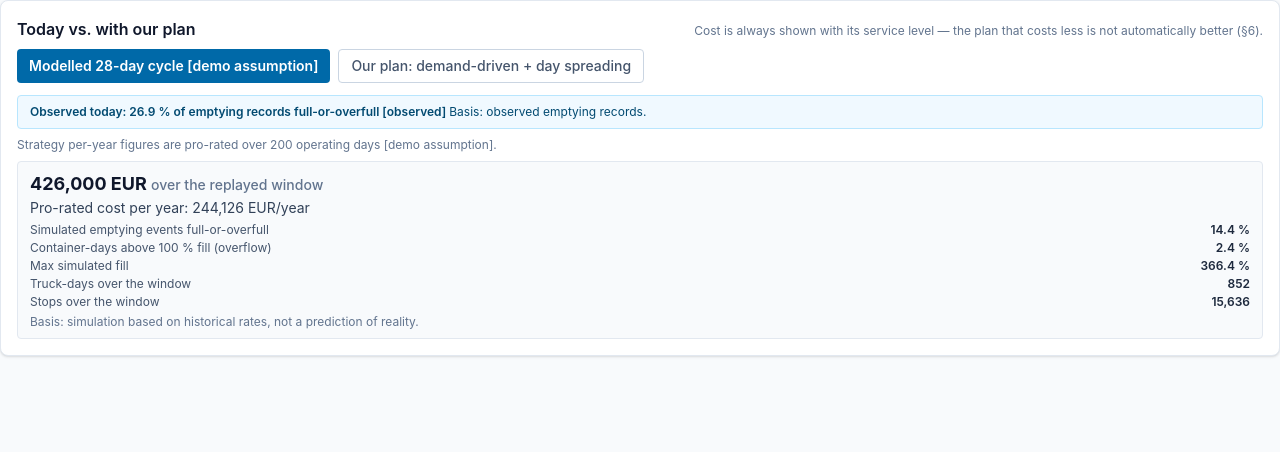
Test: TodayPlanToggle — cost + service together (§6) › words cost-more-with-zero-service-gain as NO GAIN, never as an improvement (review #4)
Click the button with test id "toggle-plan". click: [491, 66]
box: [338,49,644,83]
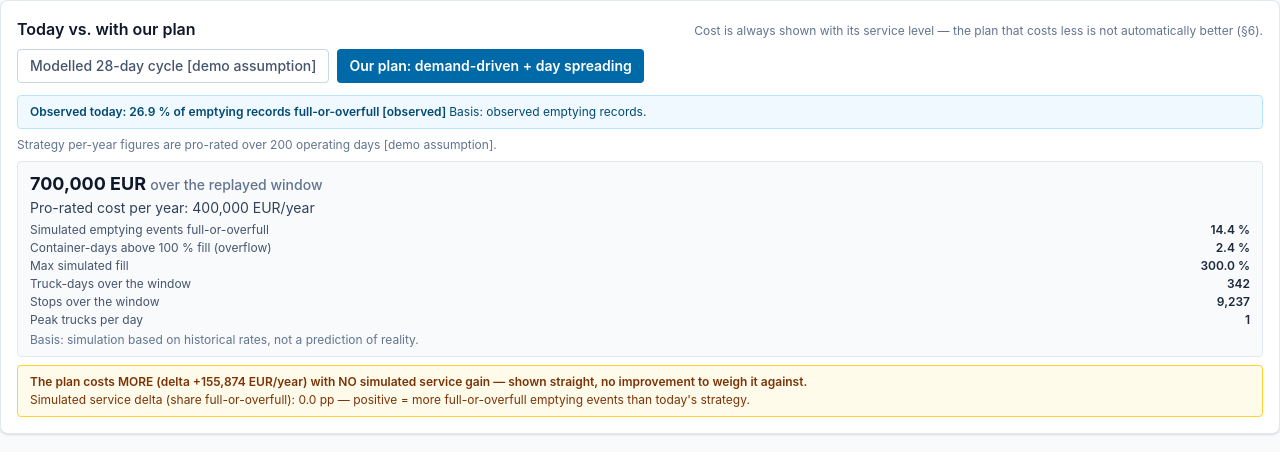
Expected: the element with test id "toggle-tradeoff" shows "+155,874 EUR/year", [30,374,807,389]
Expected: the element with test id "toggle-tradeoff" shows "NO simulated service gain", [30,374,807,389]
Expected: the element with test id "toggle-tradeoff" shows "0.0 pp", [30,392,750,407]
